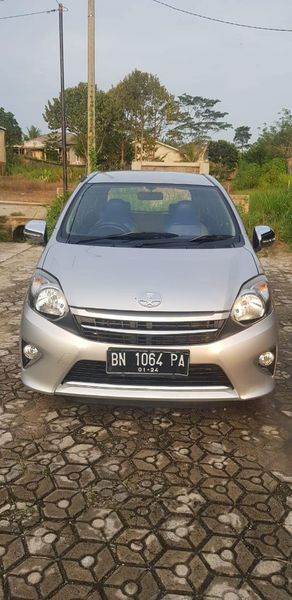plate: (105, 344, 194, 383)
